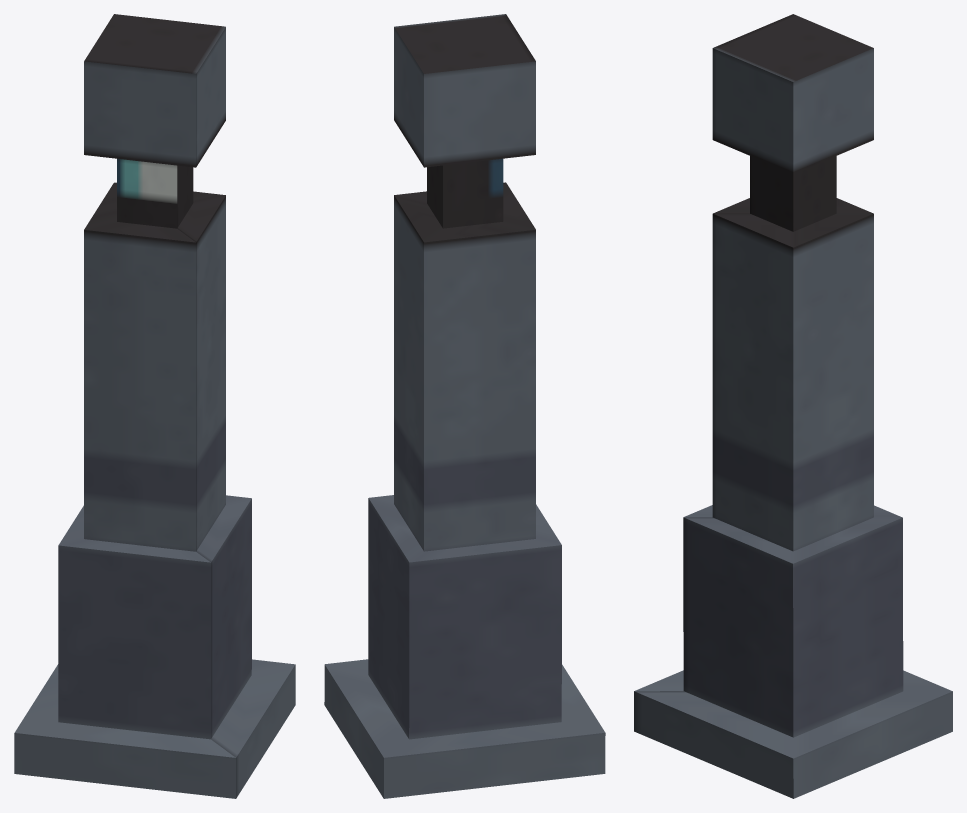
File: pillar.fbx
The picture shows the model from 3 angles, left to right: view 1: azimuth 30°, elevation 25°; view 2: azimuth 150°, elevation 25°; view 3: azimuth 270°, elevation 25°; orthographic projection.
Parts seen in each view (by area): view 1: pillar; view 2: pillar; view 3: pillar.
Boxes of the visible parts, left/top/right/bottom form: pillar: left=14, top=14, right=295, bottom=798; pillar: left=324, top=14, right=605, bottom=798; pillar: left=634, top=14, right=952, bottom=798.
Bounding box in the file's own units: 182 × 430 × 182.
